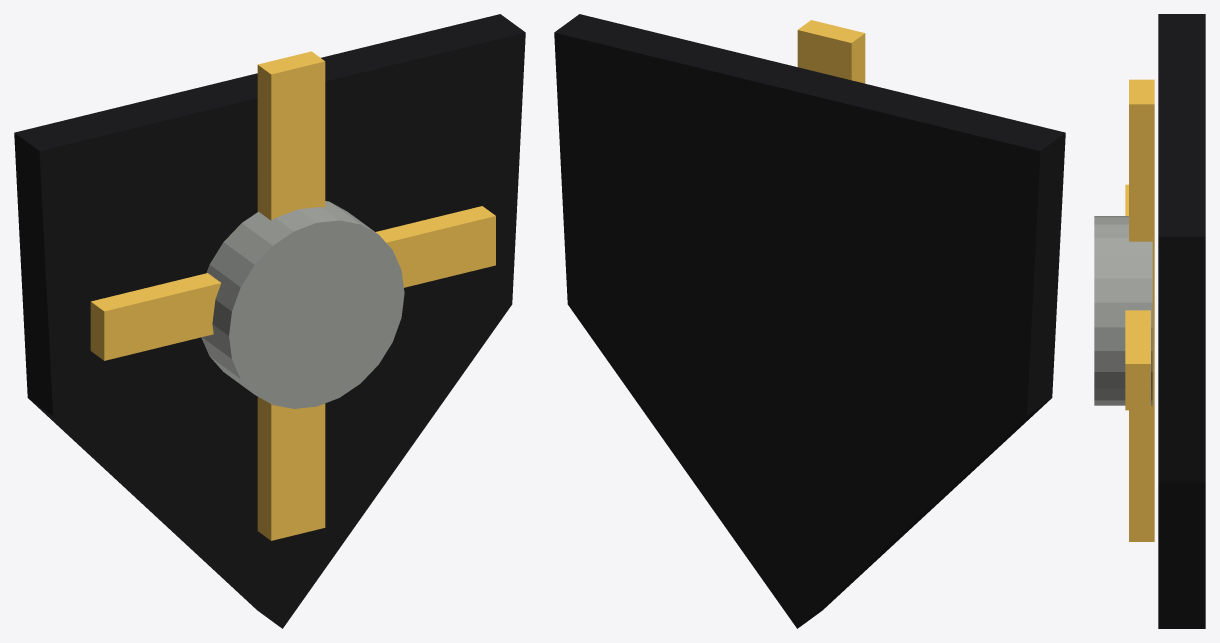
The model's file is shield_03_heater_dark.obj.
3 renders of one model, left to right at view 1: azimuth 30°, elevation 25°; view 2: azimuth 150°, elevation 25°; view 3: azimuth 270°, elevation 25°, orthographic. The views are drawn at different scales.
Size of the model in its own units: 0.72 by 0.81 by 0.1525.
